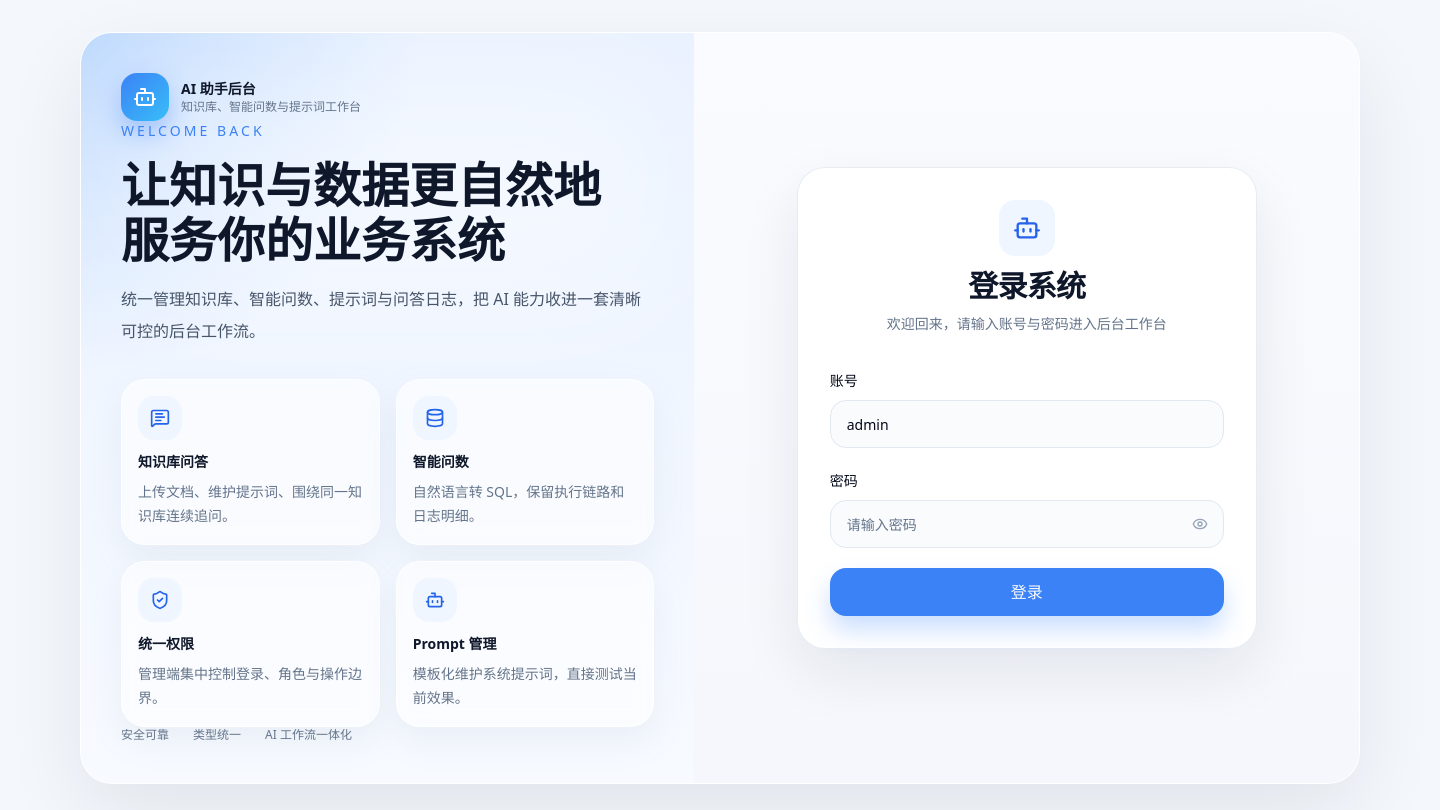
Scenario: LoginPage › 应该在登录时显示加载状态
This screenshot has width=1440, height=810.
Type "testpass" into the password field labelled "密码" at (1027, 524), box [830,500,1224,548]
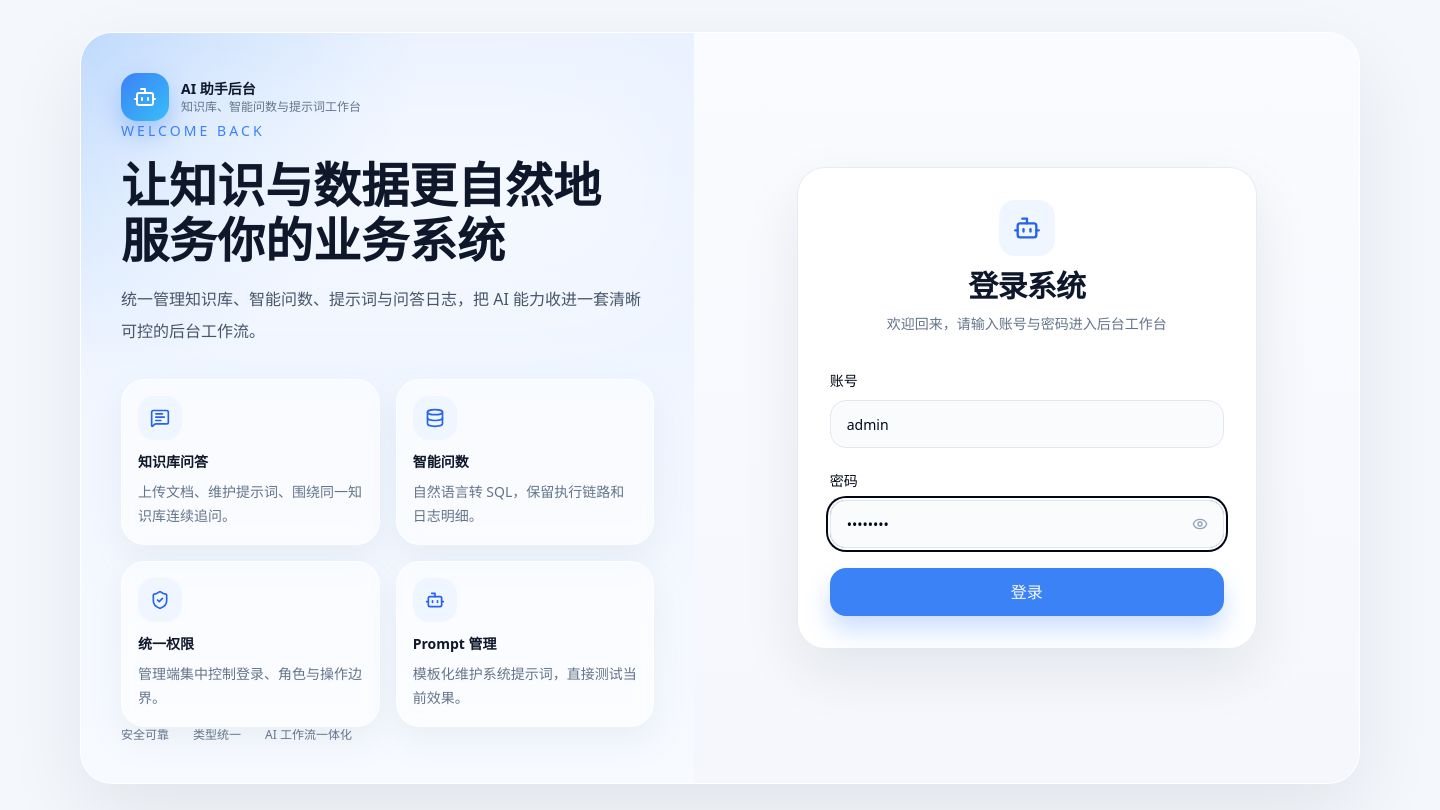
Click the button "登录" at (1027, 592), box [830,568,1224,616]
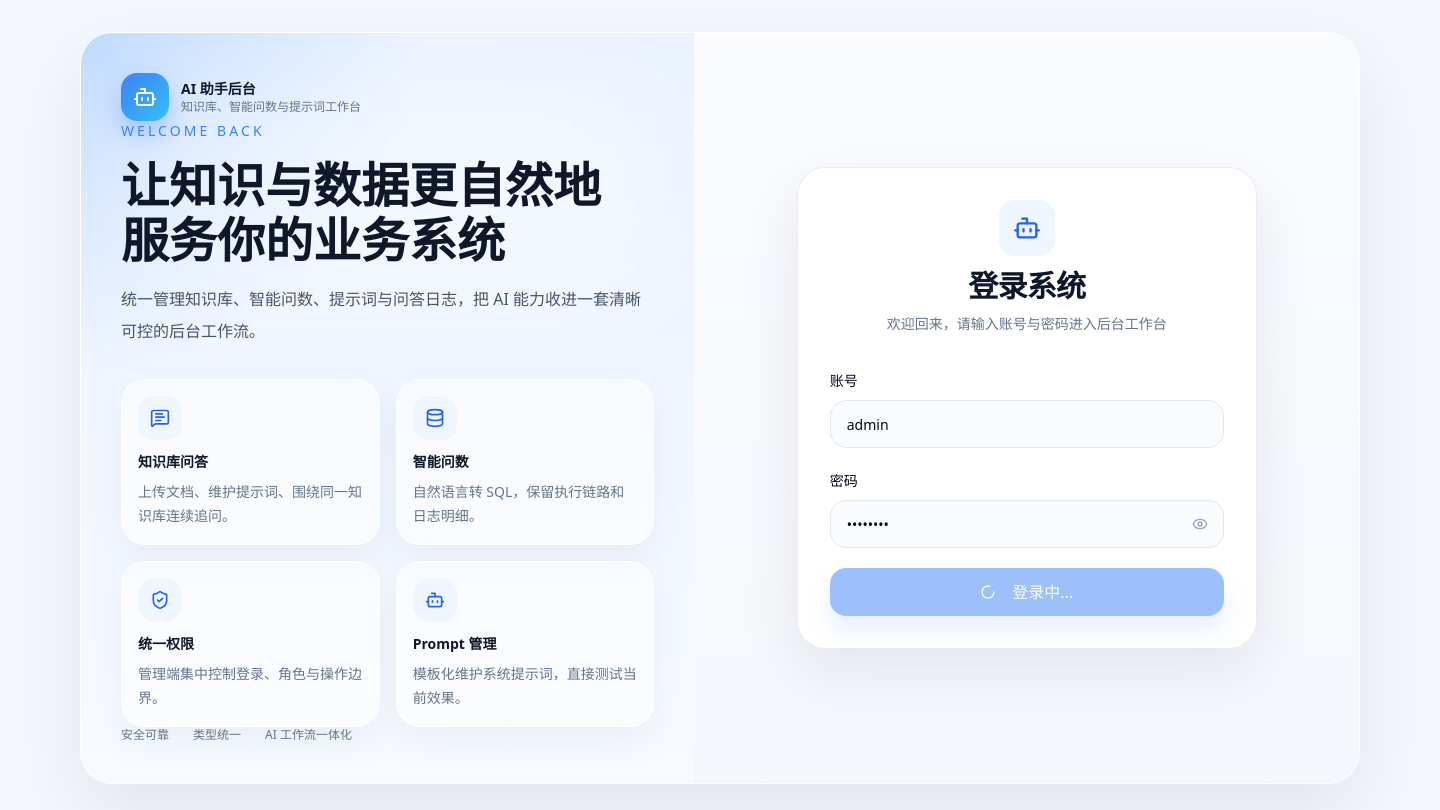
Check: the button "登录中..." is disabled, box [830,568,1224,616]
